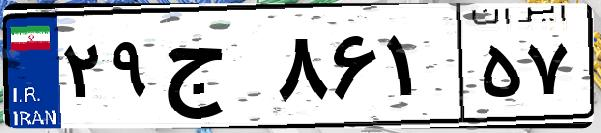1: (385, 28, 445, 110)
2: (57, 26, 110, 100)
5: (475, 38, 525, 113)
6: (330, 28, 385, 110)
7: (525, 38, 570, 115)
8: (270, 28, 330, 110)
9: (110, 28, 158, 98)
ج: (158, 20, 270, 120)
